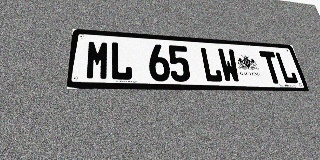5: (168, 45, 191, 82)
6: (148, 44, 171, 81)
L: (110, 41, 133, 81), (199, 47, 223, 82), (274, 52, 299, 84)
M: (85, 40, 110, 80)
T: (259, 51, 284, 84)
W: (217, 48, 241, 83)
